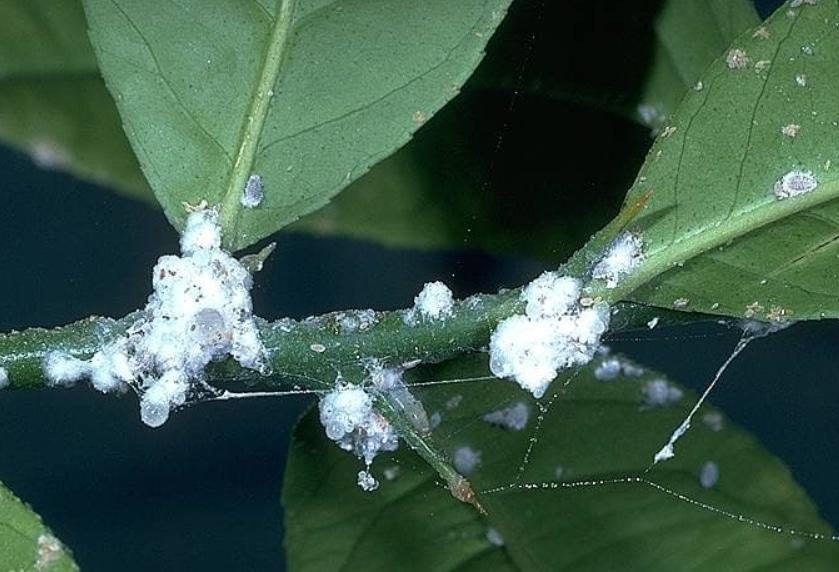pseudococcidae: (28, 142, 833, 488)
